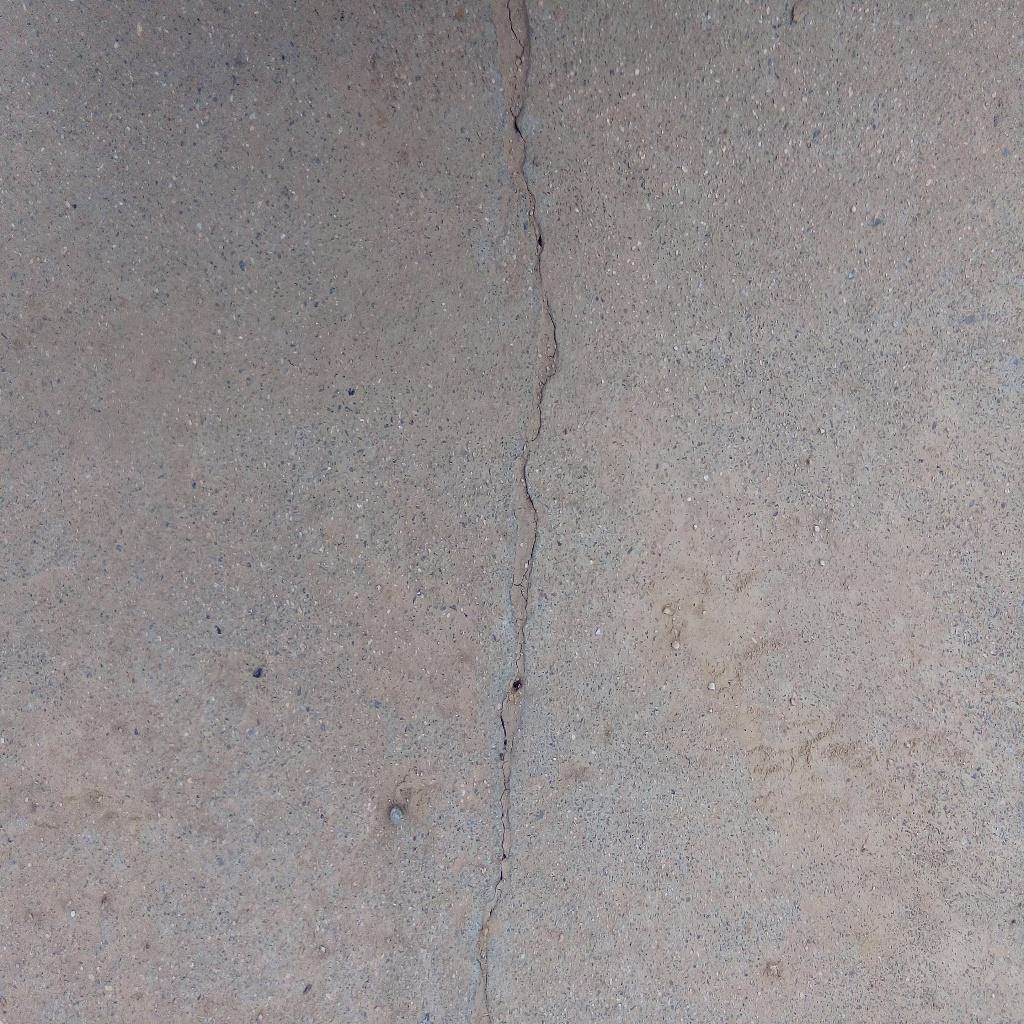Crack: (473, 1, 559, 1024)
